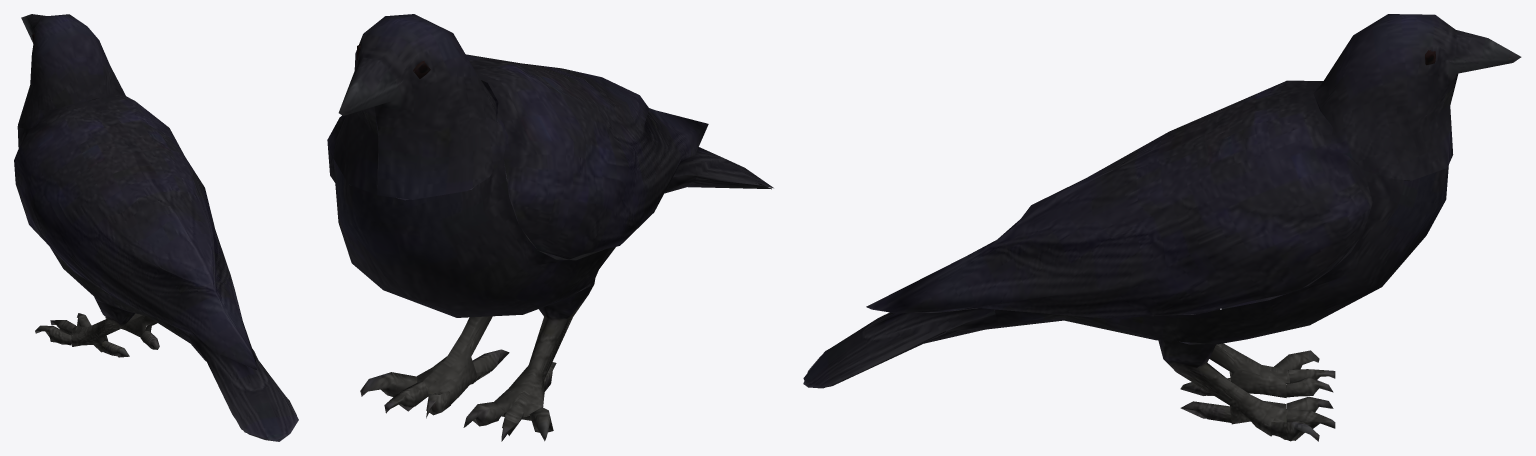
File: crow_hi.glb
3 renders of one model, left to right at view 1: azimuth 30°, elevation 25°; view 2: azimuth 150°, elevation 25°; view 3: azimuth 270°, elevation 25°, orthographic. The views are drawn at different scales.
Visible parts, largest first — view 1: crow_hi; view 2: crow_hi; view 3: crow_hi.
Part boxes in pixels (x1,y1,x2,y2): crow_hi: (14, 14, 298, 441); crow_hi: (327, 14, 773, 441); crow_hi: (803, 14, 1521, 441).
Bounding box in the file's own units: 0.1562 × 0.2791 × 0.4605.
Materials: 1 (1 with a texture image).
